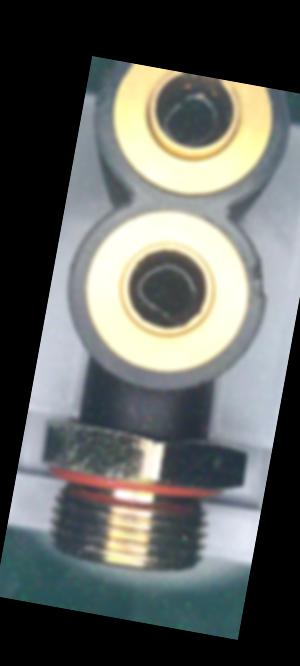bump: (86, 59, 124, 117), (244, 251, 280, 308)
joint line: (141, 389, 155, 419)
off-centered: (152, 83, 233, 156), (127, 253, 204, 328)
